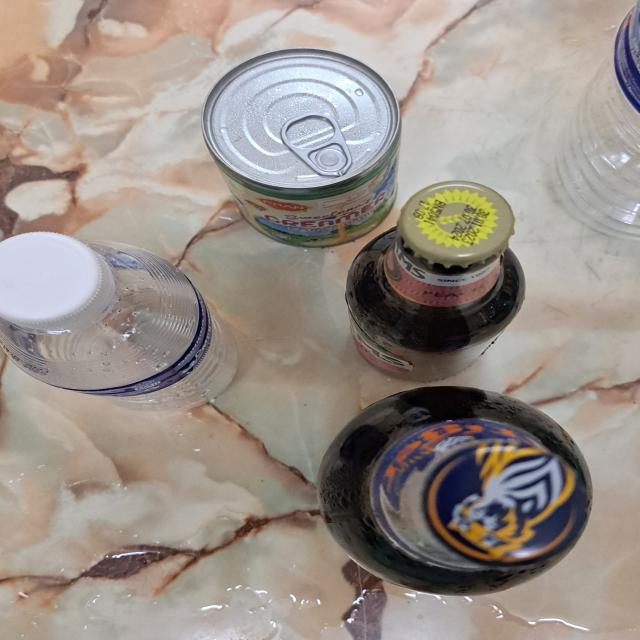can: (203, 47, 399, 250)
glass bottle: (320, 384, 592, 598), (344, 178, 526, 384)
plastic bottle: (0, 250, 238, 413), (543, 0, 640, 244)
plastic bottle cap: (0, 228, 116, 332)
pop tab: (280, 113, 353, 179)
